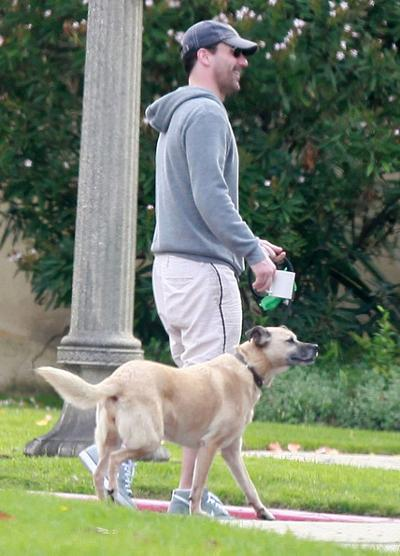person: (79, 21, 287, 521)
